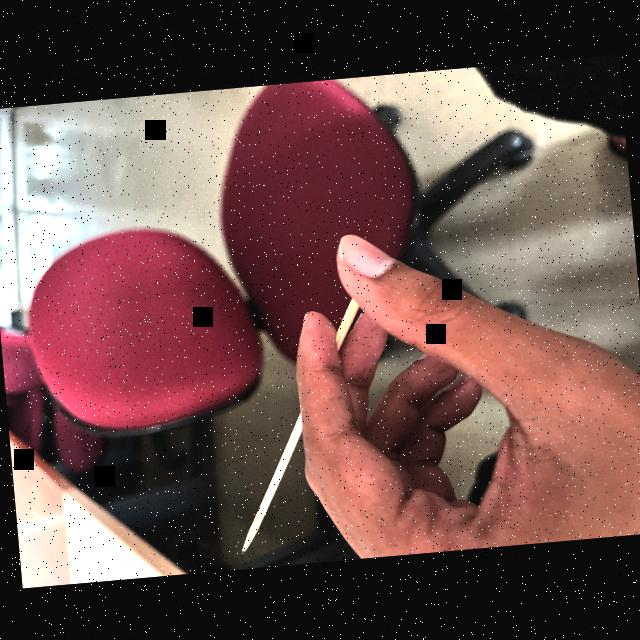stick: (209, 286, 383, 559)
